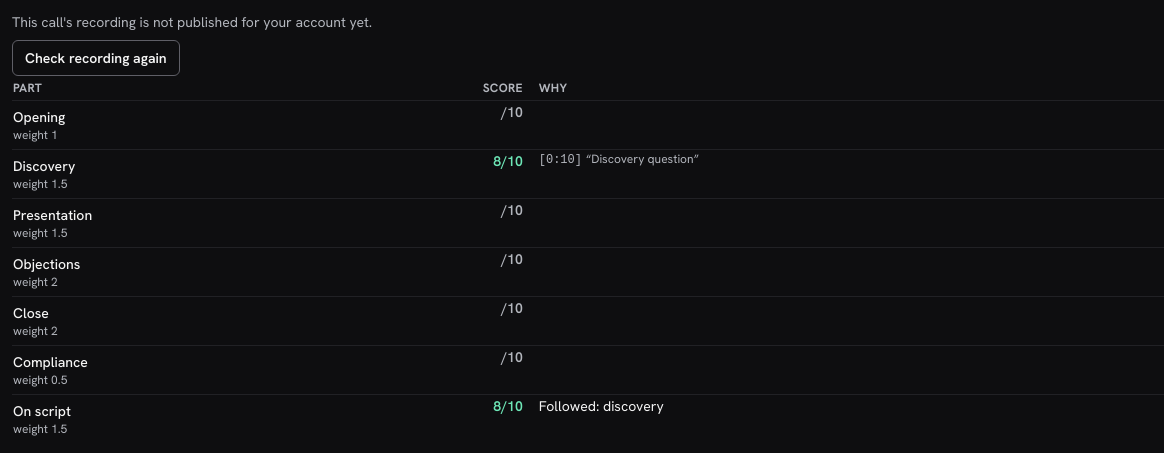
Test: private recording playback › keeps grade timestamps as text until this account has a published private copy
Check: the text "This call's recording is not published for your account yet." is shown, box [12,13,372,31]
Click the button "Check recording again".
click(96, 58)  # box [12,40,180,76]
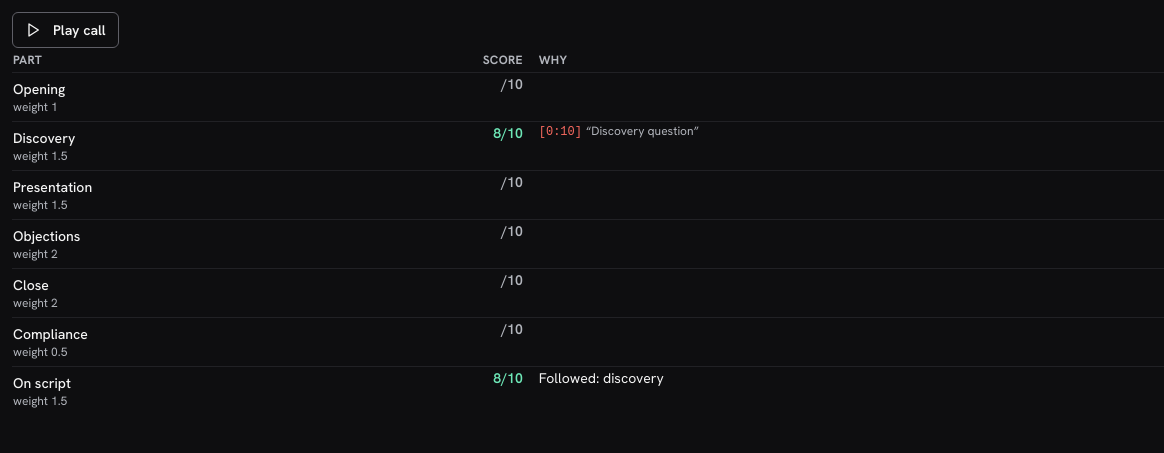
Check: the button "Play call" is shown, box [12,12,119,48]
